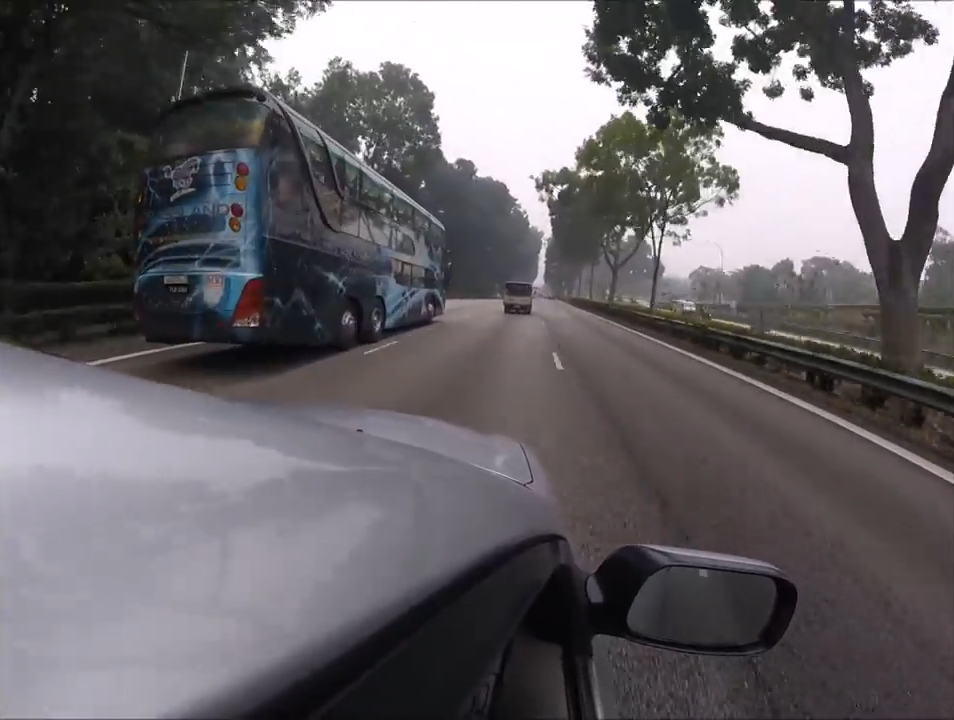bus: (123, 86, 449, 360), (497, 277, 536, 314)
